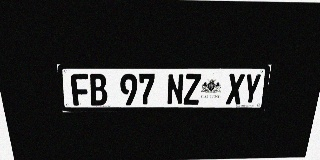7: (138, 74, 155, 105)
9: (120, 74, 138, 105)
B: (88, 74, 108, 106)
F: (70, 74, 90, 106)
N: (167, 74, 184, 105)
X: (226, 74, 245, 104)
Y: (242, 74, 262, 104)
Z: (183, 74, 201, 105)
